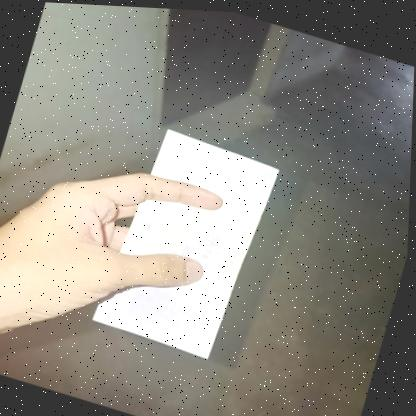two_hundred-back-vef: (92, 119, 284, 363)
